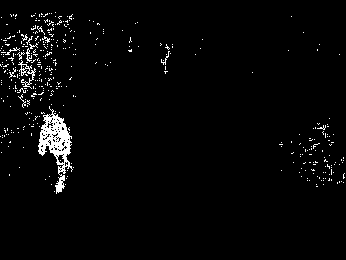person: (35, 103, 85, 198)
